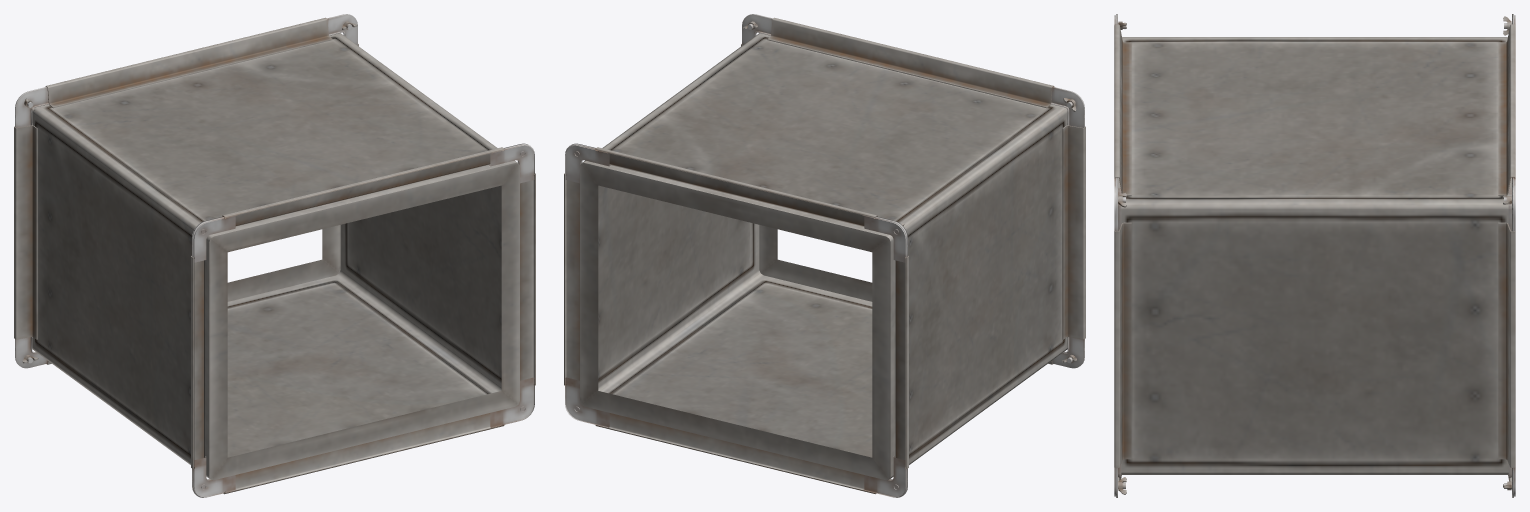
File: single_01.glb
3 renders of one model, left to right at view 1: azimuth 30°, elevation 25°; view 2: azimuth 150°, elevation 25°; view 3: azimuth 270°, elevation 25°, orthographic. The views are drawn at different scales.
Visible parts, largest first — view 1: modular_airduct_rectangular_01_single_01.001; view 2: modular_airduct_rectangular_01_single_01.001; view 3: modular_airduct_rectangular_01_single_01.001.
Part boxes in pixels (left/top/right/bottom): modular_airduct_rectangular_01_single_01.001: left=14, top=14, right=535, bottom=497; modular_airduct_rectangular_01_single_01.001: left=564, top=14, right=1085, bottom=497; modular_airduct_rectangular_01_single_01.001: left=1114, top=14, right=1515, bottom=497.
Size of the model in its own units: 0.6634 by 0.5126 by 0.6.
Materials: 2 (2 with a texture image).
